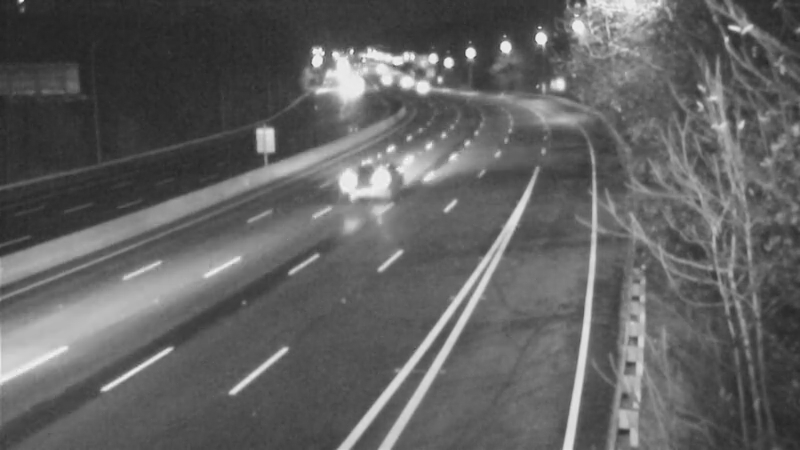vehicle: (344, 125, 424, 205), (379, 59, 429, 109), (401, 62, 451, 112)
